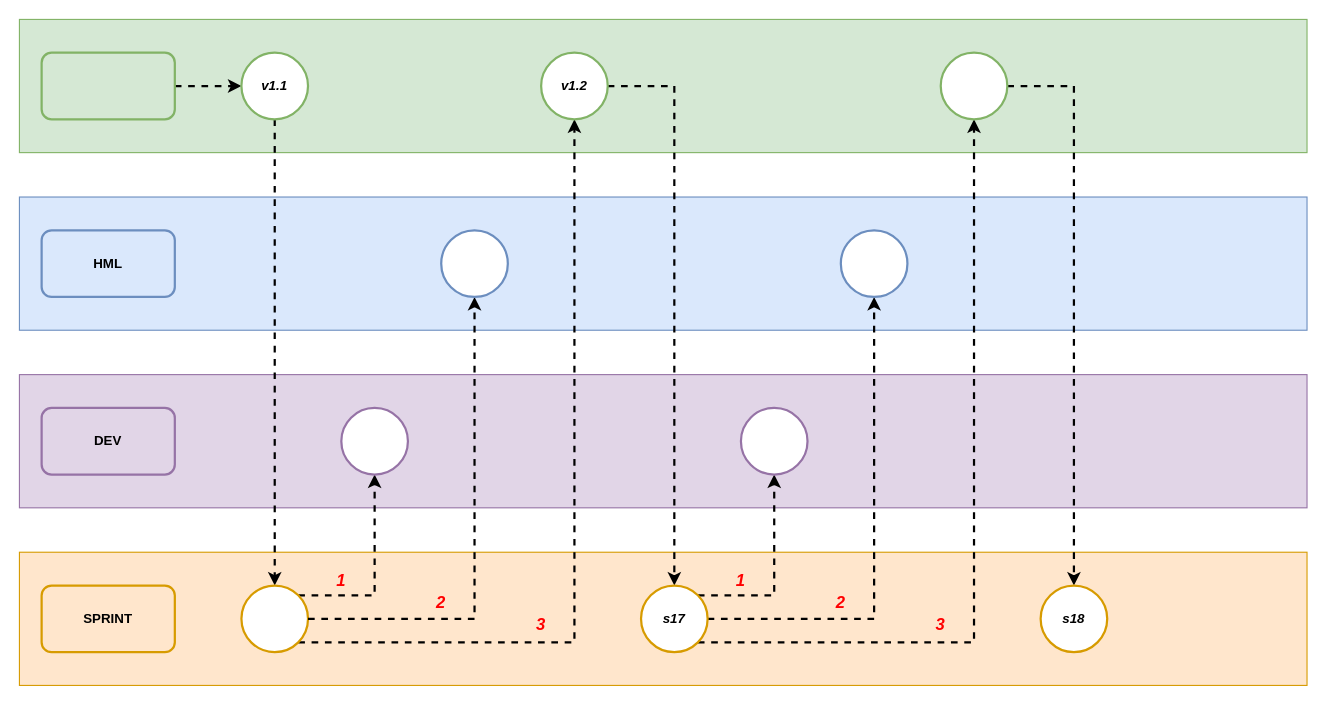
Image size: 1326x705. Some labels were removed from this diagram. The shapes that lost their labels are listed below. From the top down, each one's box as (x1, y1, x2, y2) in pixels, then its label:
(40, 51, 175, 120): MAIN
(939, 51, 1008, 120): v1.3
(240, 584, 309, 653): s16
